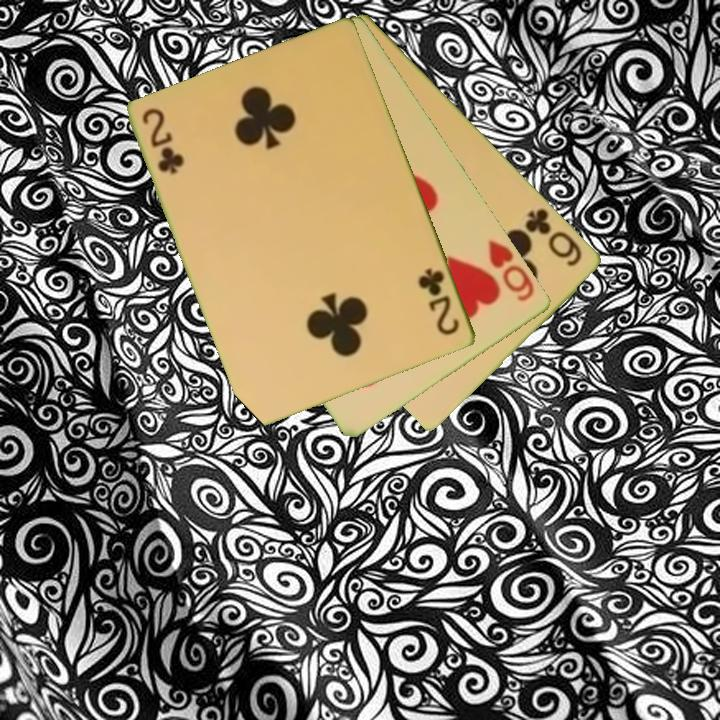2c: (415, 265, 463, 339), (139, 104, 186, 178)
6c: (522, 204, 586, 270)
6h: (485, 236, 538, 305)
